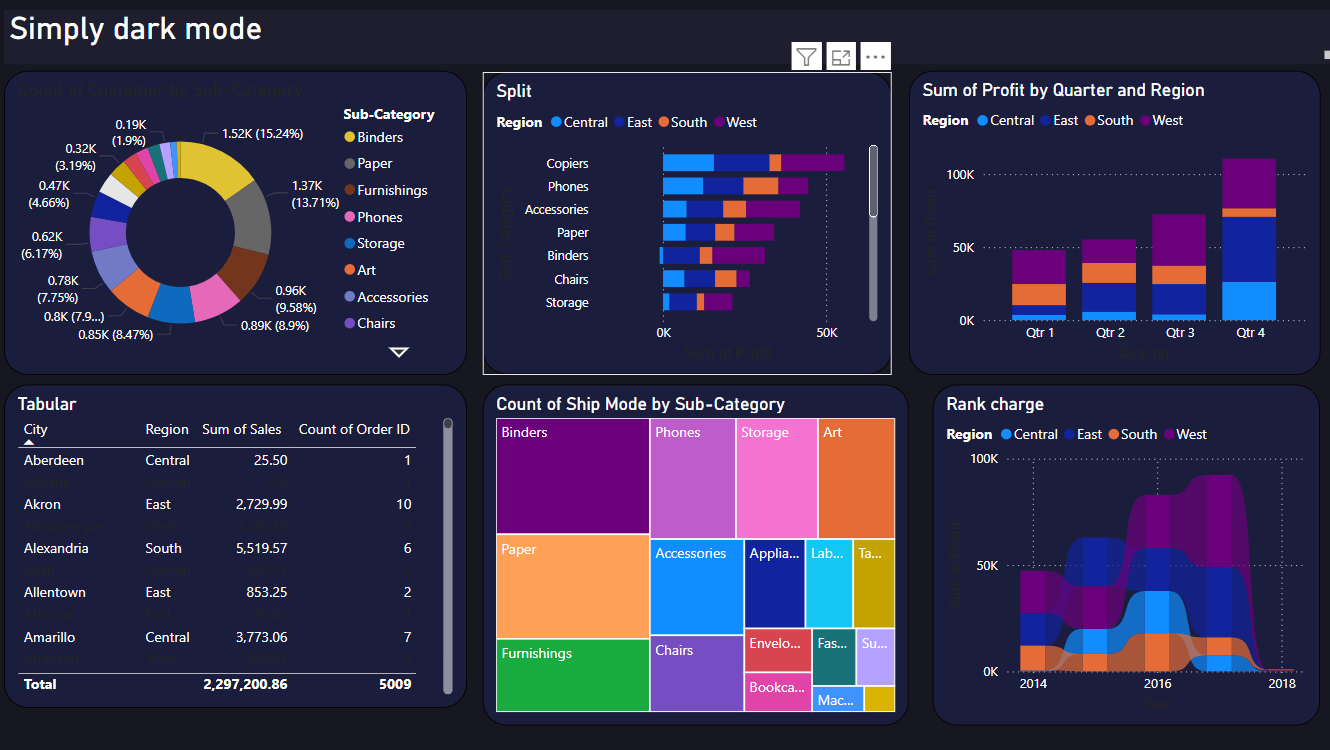

Layout of this report page (visuals, bound fields, positions):
{"tool":"powerbi","page":{"name":"Page 1","canvas":[1280,720],"ordinal":0},"visuals":[{"type":"textbox","title":"Simply dark mode","box":[9.5,11.9,1270.2,52.4],"z":0},{"type":"donutChart","title":"Count of Customer by Sub-Category","fields":{"Category":["Sample - Superstore.Sub-Category"],"Y":["CountNonNull(Sample - Superstore.Customer ID)"]},"box":[9.5,70.2,440.5,289.3],"z":1000},{"type":"barChart","title":"Split","fields":{"Category":["Sample - Superstore.Sub-Category"],"Y":["Sum(Sample - Superstore.Profit)"],"Series":["Sample - Superstore.Region"]},"box":[465.5,71.4,389.3,288.1],"z":2000},{"type":"columnChart","fields":{"Category":["Sample - Superstore.Order Date.Variation.Date Hierarchy.Quarter"],"Y":["Sum(Sample - Superstore.Profit)"],"Series":["Sample - Superstore.Region"]},"box":[871.4,70.2,391.7,289.3],"z":3000},{"type":"tableEx","title":"Tabular","fields":{"Values":["Sample - Superstore.City","Sample - Superstore.Region","Sum(Sample - Superstore.Sales)","Sample - Superstore.Order ID"]},"box":[9.5,369,440.5,308.3],"z":4000},{"type":"treemap","fields":{"Details":["Sample - Superstore.Sub-Category"],"Values":["CountNonNull(Sample - Superstore.Ship Mode)"]},"box":[465.5,369,406,325],"z":4001},{"type":"ribbonChart","title":"Rank charge","fields":{"Category":["Sample - Superstore.Ship Date.Variation.Date Hierarchy.Year"],"Y":["Sum(Sample - Superstore.Profit)"],"Series":["Sample - Superstore.Region"]},"box":[894.1,369,369,325],"z":4002}]}

Visuals, with their boxes in screenshot pixels (x1, y1, x2, y2), scaled from the page's 1280x720 canvas onto the 1330x750 screenshot:
"Simply dark mode" textbox: region(10, 12, 1329, 67)
"Count of Customer by Sub-Category" donutChart: region(10, 73, 468, 374)
"Split" barChart: region(484, 74, 888, 374)
columnChart - Sample - Superstore.Order Date.Variation.Date Hierarchy.Quarter x Sum(Sample - Superstore.Profit): region(905, 73, 1312, 374)
"Tabular" tableEx: region(10, 384, 468, 706)
treemap - Sample - Superstore.Sub-Category x CountNonNull(Sample - Superstore.Ship Mode): region(484, 384, 906, 723)
"Rank charge" ribbonChart: region(929, 384, 1312, 723)
